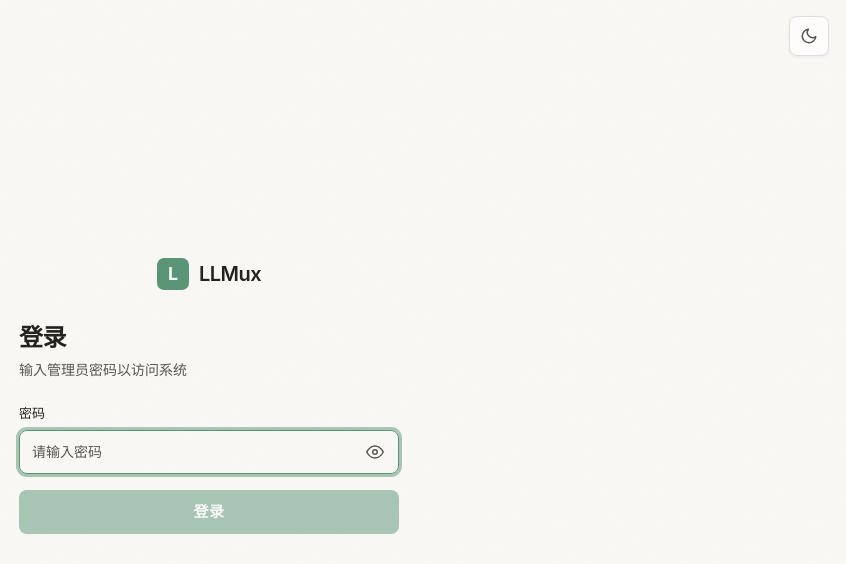
Scenario: 登录过期一次性提示 › 登录失败：展示中文文案且不透传后端 message（后端回的是英文技术文案）
Type "wrong" into the password field labelled "密码". click: (209, 452)
box: [19, 430, 399, 474]
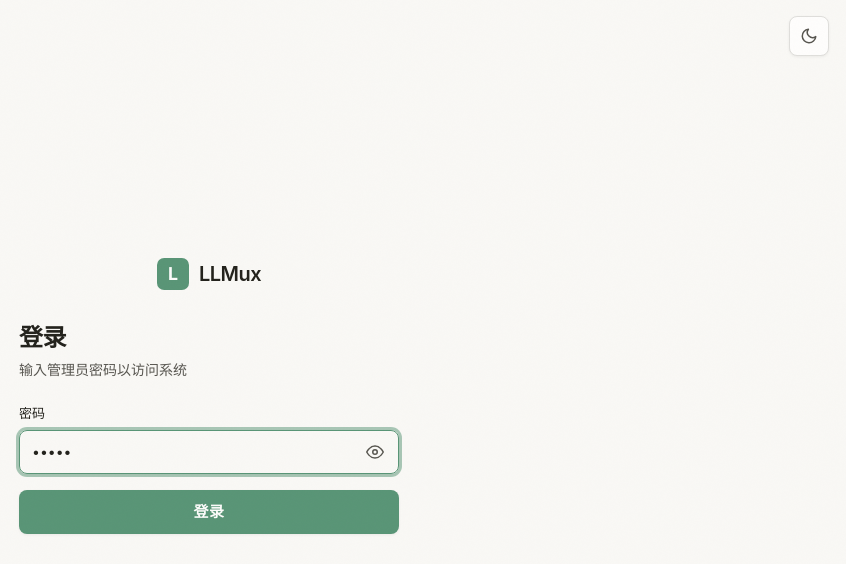
Click the button "登录". click: (209, 512)
box: [19, 490, 399, 534]
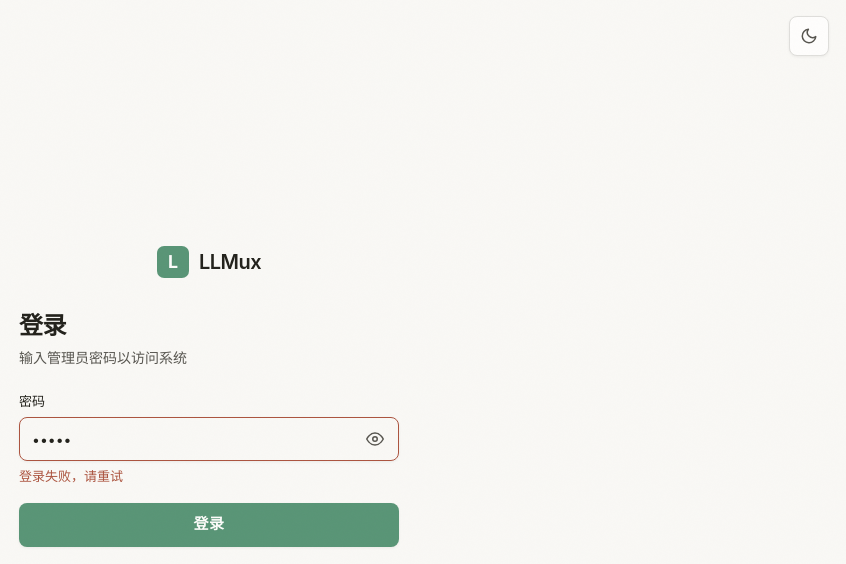
Now the message reads "登录失败，请重试", box [19, 468, 123, 484]
